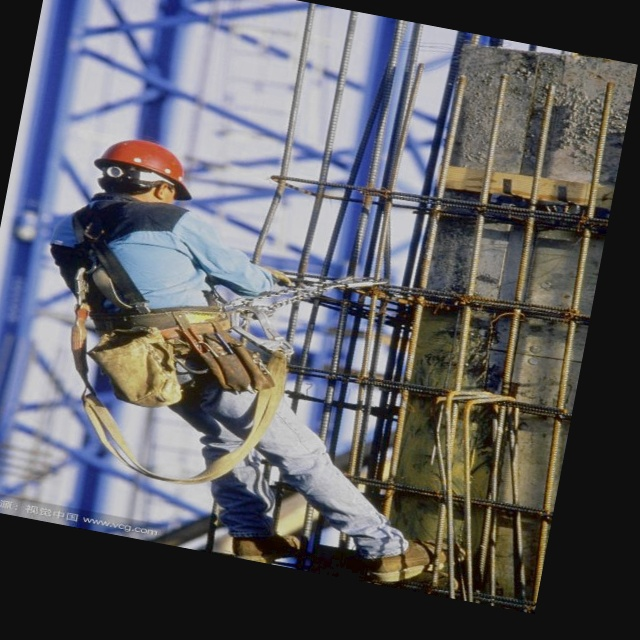Con_Casco: (94, 133, 198, 211)
